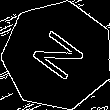N_SE: (25, 24, 90, 86)
